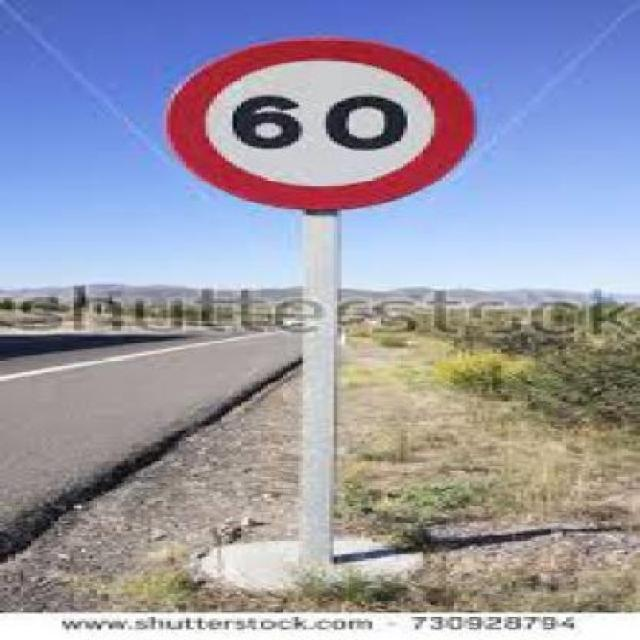forb_speed_over_60: (175, 39, 468, 205)
